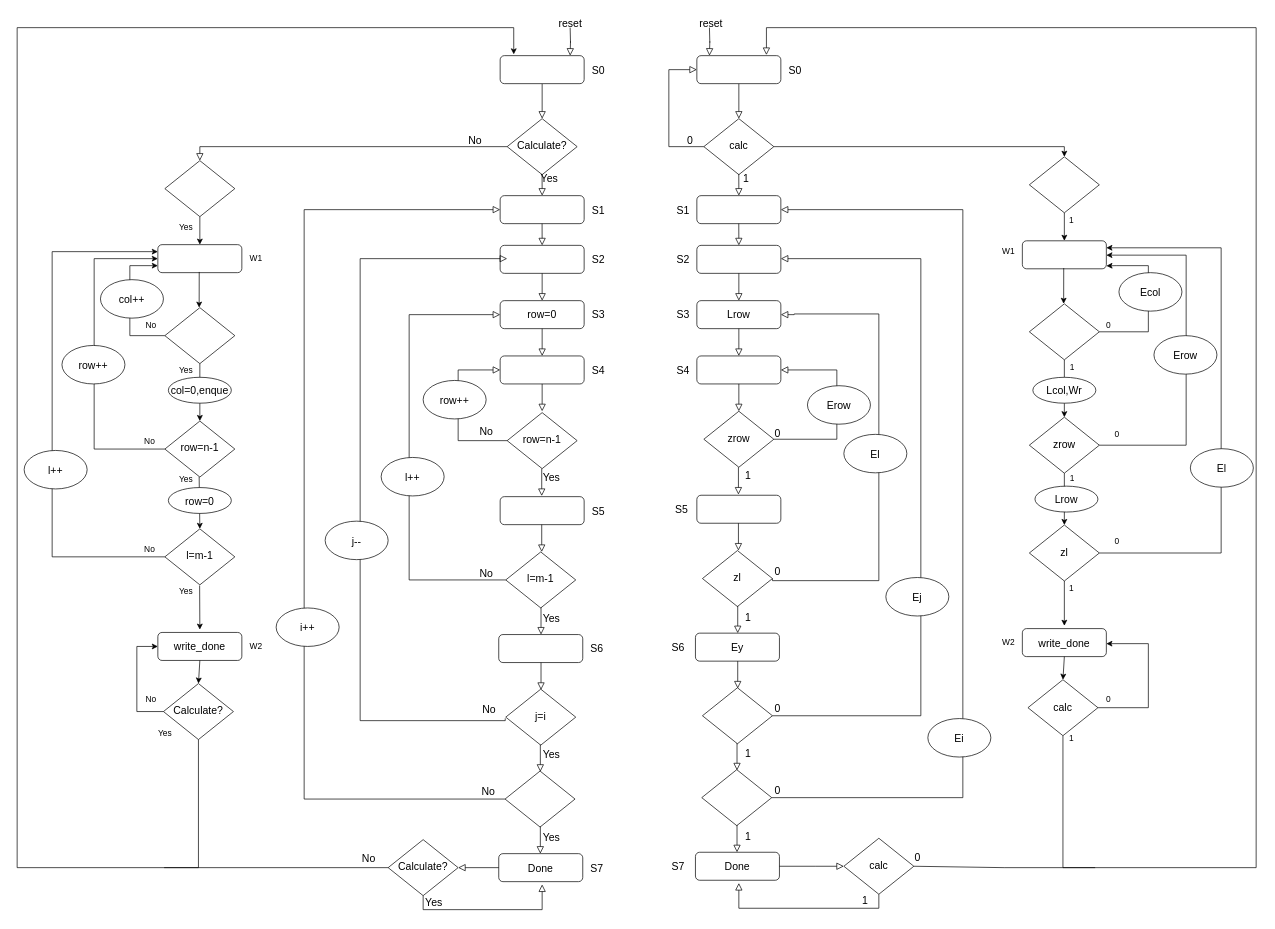
Some shapes in this 1275 by 929 pixel diagram are drawn without their labels. Here are the shapes that lost their labels. From the top down, the box of each, then its label:
(499, 55, 584, 84): i=0,l=0, row=0,col=0
(696, 55, 781, 84): Li,Ll,Lrow,Lcol
(164, 160, 235, 217): Write Input?
(1029, 156, 1099, 213): WrInit
(499, 195, 584, 224): j=k-1
(696, 195, 781, 224): Lj
(157, 244, 242, 273): Enqueue
(499, 245, 584, 273): l=0
(696, 245, 781, 273): Ll
(1022, 240, 1106, 269): Ef
(164, 307, 235, 364): col=n/2 - 1
(1029, 303, 1099, 360): zcol
(499, 355, 584, 384): GF 16 Mul & Add
(499, 496, 584, 525): Calc u l
(696, 495, 781, 523): Arr
(498, 634, 583, 663): Calc y=y+Eu
(702, 687, 772, 744): zj
(504, 770, 575, 827): i=k-1
(701, 769, 772, 826): zi
